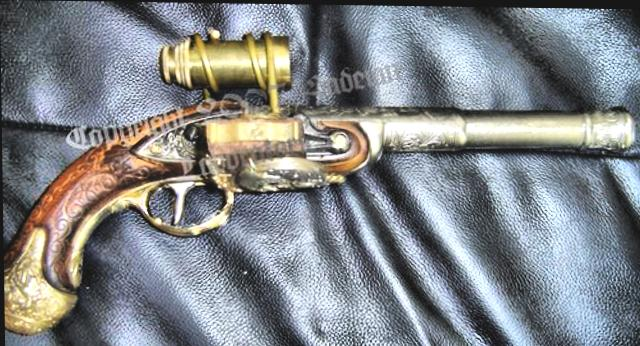pistol: (1, 23, 635, 339)
